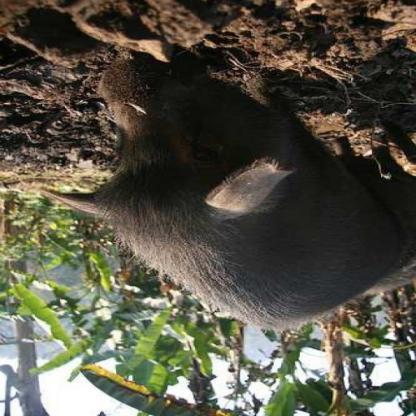boar: (70, 63, 415, 309)
